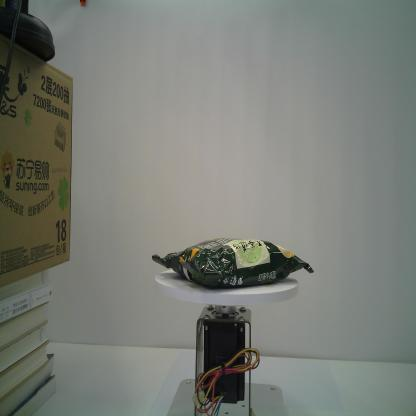Instant Noodles: (150, 236, 316, 292)
